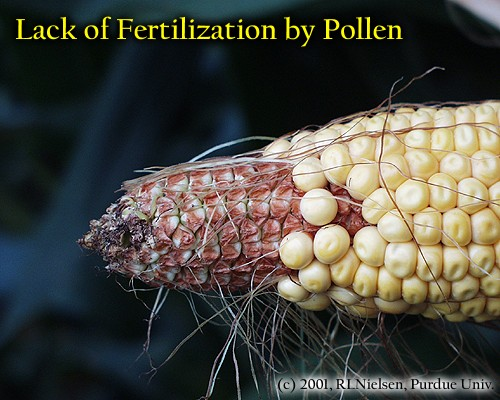corn: (80, 102, 499, 324)
